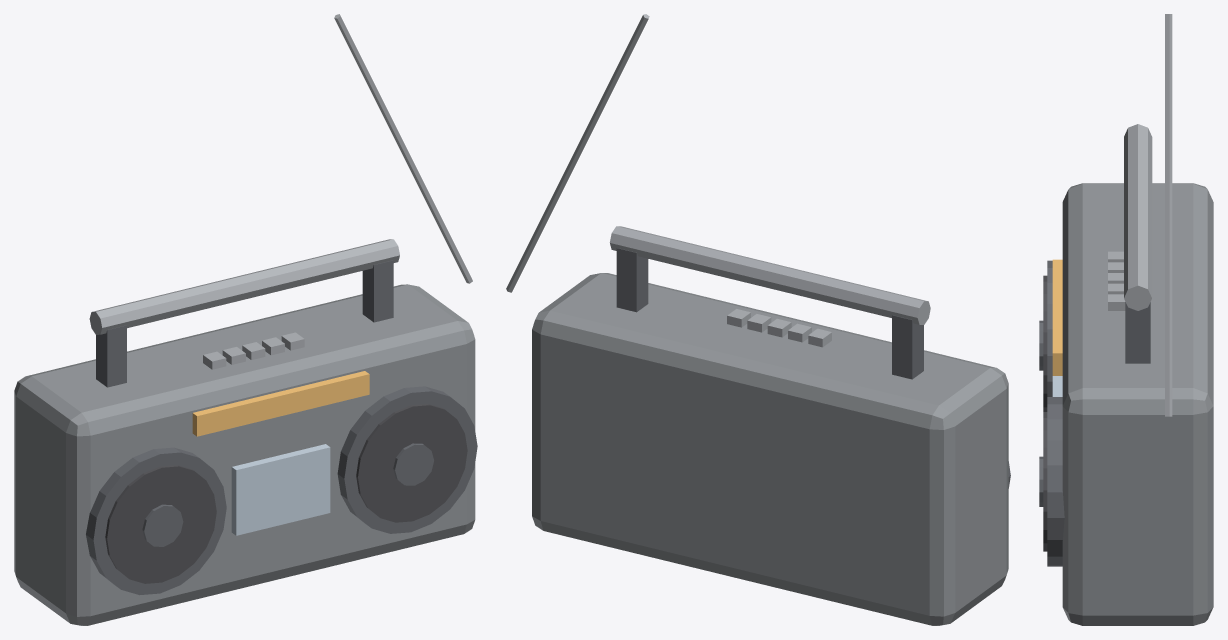
The model's file is Garage_Boombox.glb.
The picture shows the model from 3 angles, left to right: view 1: azimuth 30°, elevation 25°; view 2: azimuth 150°, elevation 25°; view 3: azimuth 270°, elevation 25°; orthographic projection. The views are drawn at different scales.
Parts seen in each view (by area): view 1: Garage_Boombox; view 2: Garage_Boombox; view 3: Garage_Boombox.
Boxes of the visible parts, box(x1,y1,x2,y2) form: Garage_Boombox: box(14, 14, 477, 625); Garage_Boombox: box(506, 14, 1010, 625); Garage_Boombox: box(1039, 14, 1213, 625).
Size of the model in its own units: 0.568 by 0.6229 by 0.173.
